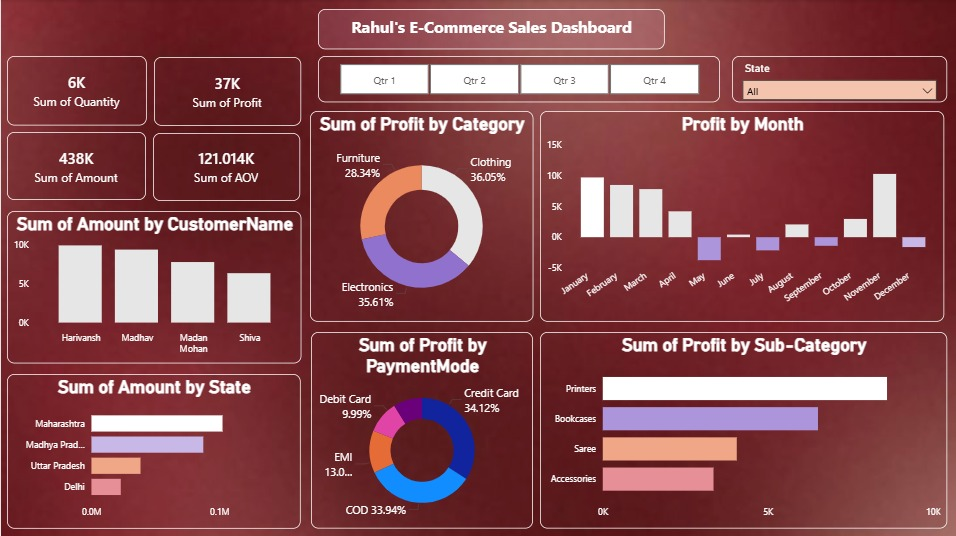

Layout of this report page (visuals, bound fields, positions):
{"tool":"powerbi","page":{"name":"Page 1","canvas":[1280,720],"ordinal":0},"visuals":[{"type":"textbox","box":[424.3,12.9,464.3,54.3],"z":0},{"type":"clusteredColumnChart","title":"Profit by Month","fields":{"Category":["Orders.Order Date.Variation.Date Hierarchy.Month"],"Y":["Sum(Details.Profit)"]},"box":[721.2,150,540.9,282.2],"z":1000},{"type":"barChart","fields":{"Category":["Details.Sub-Category"],"Y":["Sum(Details.Profit)"]},"box":[721.2,445.9,545,262.9],"z":2000},{"type":"donutChart","fields":{"Category":["Details.PaymentMode"],"Y":["Sum(Details.Profit)"]},"box":[414.3,445.9,297.3,262.9],"z":3000},{"type":"donutChart","fields":{"Category":["Details.Category"],"Y":["Sum(Details.Profit)"]},"box":[412.9,150,298.7,282.2],"z":4000},{"type":"cardVisual","fields":{"Data":["Sum(Details.Amount)"]},"box":[8.7,178.3,185.5,91.3],"z":5000},{"type":"cardVisual","fields":{"Data":["Sum(Details.Profit)"]},"box":[205.1,77.1,196.8,92.2],"z":6000},{"type":"cardVisual","fields":{"Data":["Sum(Details.Quantity)"]},"box":[8.7,76.8,187,92.8],"z":7000},{"type":"cardVisual","fields":{"Data":["Sum(Details.AOV)"]},"box":[203.7,178.9,196.8,90.8],"z":8000},{"type":"barChart","fields":{"Category":["Orders.State"],"Y":["Sum(Details.Amount)"]},"box":[8.7,501.4,392.8,207.2],"z":9000},{"type":"clusteredColumnChart","fields":{"Category":["Orders.CustomerName"],"Y":["Sum(Details.Amount)"]},"box":[8.7,284.1,394.2,204.3],"z":9001},{"type":"slicer","fields":{"Values":["Orders.State"]},"box":[978.3,76.8,288.4,62.3],"z":9002},{"type":"slicer","fields":{"Values":["Orders.Order Date.Variation.Date Hierarchy.Quarter"]},"box":[424.6,76.8,537.7,62.3],"z":9003}]}

Visuals, with their boxes in screenshot pixels (x1, y1, x2, y2), scaled from the page's 1280x720 canvas onto the 956x536 screenshot:
textbox: {"left": 317, "top": 10, "right": 664, "bottom": 50}
"Profit by Month" clusteredColumnChart: {"left": 539, "top": 112, "right": 943, "bottom": 322}
barChart - Details.Sub-Category x Sum(Details.Profit): {"left": 539, "top": 332, "right": 946, "bottom": 528}
donutChart - Details.PaymentMode x Sum(Details.Profit): {"left": 309, "top": 332, "right": 531, "bottom": 528}
donutChart - Details.Category x Sum(Details.Profit): {"left": 308, "top": 112, "right": 531, "bottom": 322}
cardVisual - Sum(Details.Amount): {"left": 6, "top": 133, "right": 145, "bottom": 201}
cardVisual - Sum(Details.Profit): {"left": 153, "top": 57, "right": 300, "bottom": 126}
cardVisual - Sum(Details.Quantity): {"left": 6, "top": 57, "right": 146, "bottom": 126}
cardVisual - Sum(Details.AOV): {"left": 152, "top": 133, "right": 299, "bottom": 201}
barChart - Orders.State x Sum(Details.Amount): {"left": 6, "top": 373, "right": 300, "bottom": 528}
clusteredColumnChart - Orders.CustomerName x Sum(Details.Amount): {"left": 6, "top": 211, "right": 301, "bottom": 364}
slicer - Orders.State: {"left": 731, "top": 57, "right": 946, "bottom": 104}
slicer - Orders.Order Date.Variation.Date Hierarchy.Quarter: {"left": 317, "top": 57, "right": 719, "bottom": 104}
